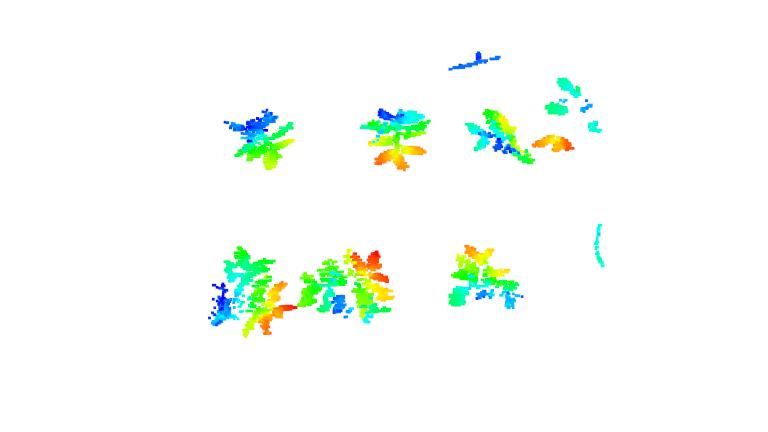chickpea: (297, 238, 392, 328), (214, 246, 292, 340), (446, 236, 522, 316), (532, 78, 607, 155), (359, 105, 434, 177), (224, 106, 298, 171), (467, 107, 536, 165)
